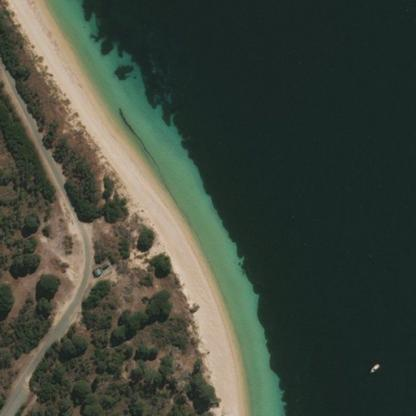ship: (366, 358, 382, 376)
